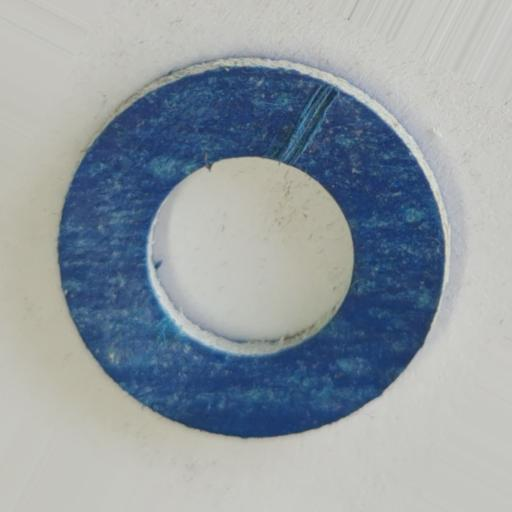defect: (277, 84, 338, 163)
